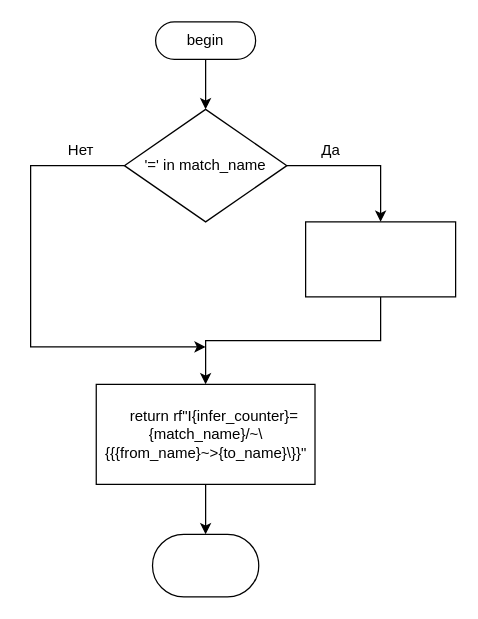
This 478x619 diagram has some shape labels left out. Each missing label, with the centre of its shape:
"end" belongs at point (205, 565).
"match_name, _ = match_name.split('=')" belongs at point (380, 259).
